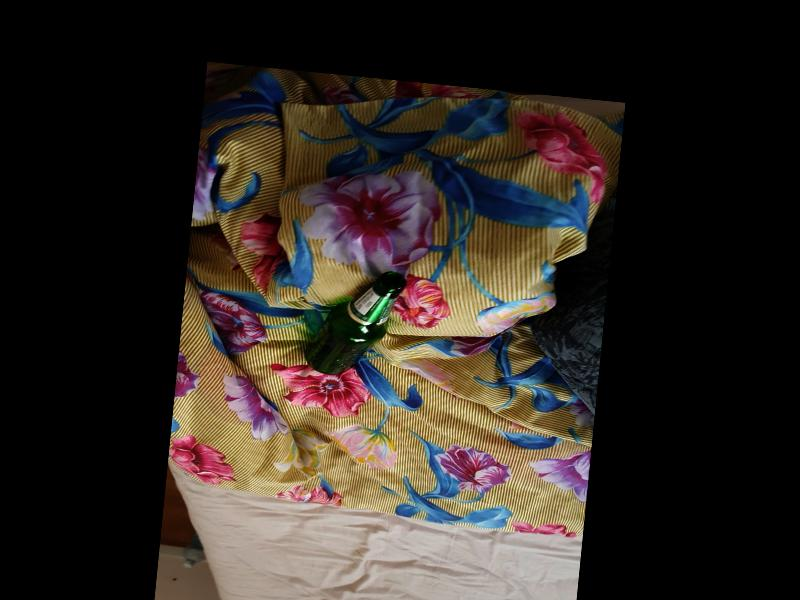Beer: (303, 262, 405, 379)
